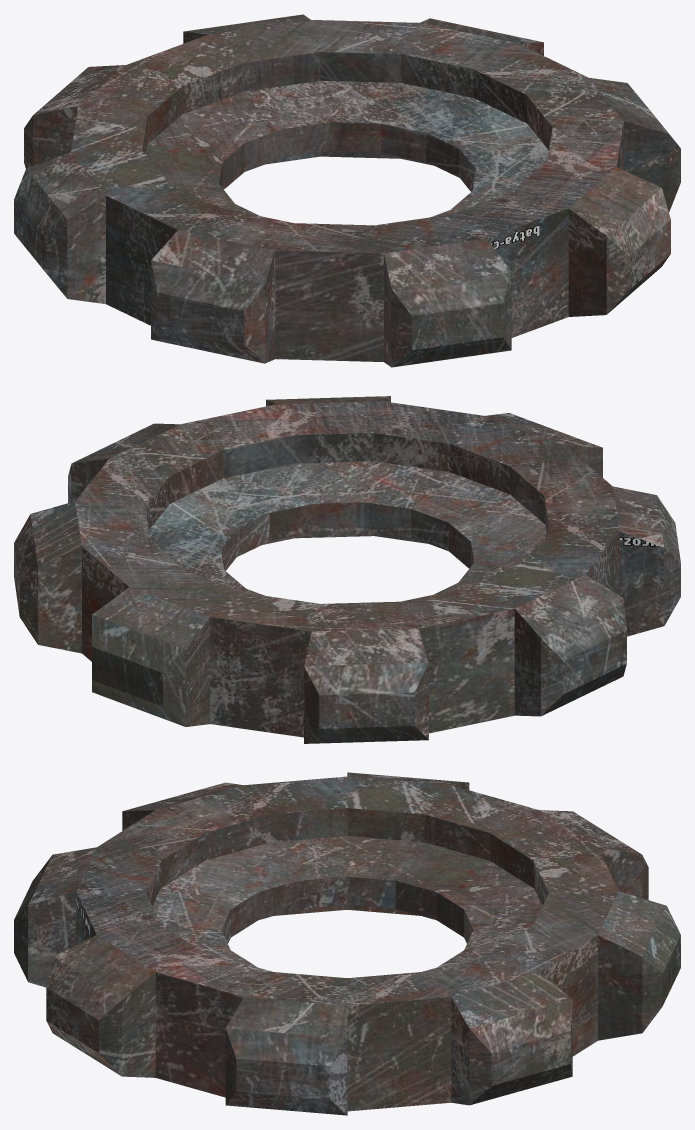
File: Cog01.fbx
3 renders of one model, top to bottom at view 1: azimuth 30°, elevation 25°; view 2: azimuth 150°, elevation 25°; view 3: azimuth 270°, elevation 25°, orthographic. The views are drawn at different scales.
Parts seen in each view (by area): view 1: Cog01; view 2: Cog01; view 3: Cog01.
Boxes of the visible parts, x1,y1,x2,y2 form: Cog01: [14, 14, 680, 367]; Cog01: [14, 396, 680, 743]; Cog01: [14, 772, 680, 1115].
Size of the model in its own units: 2.42 by 0.43 by 2.46.
